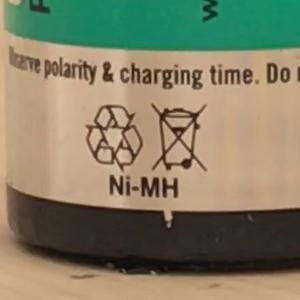NI-MH: (99, 167, 188, 205)
